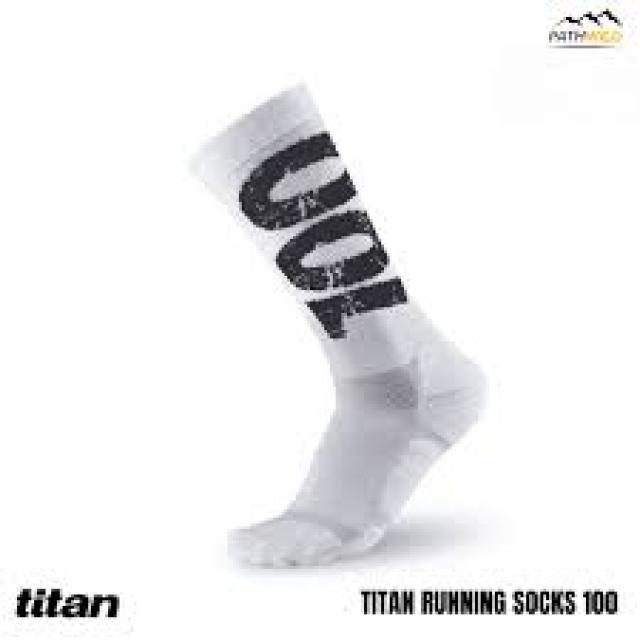sock: (188, 80, 489, 566)
